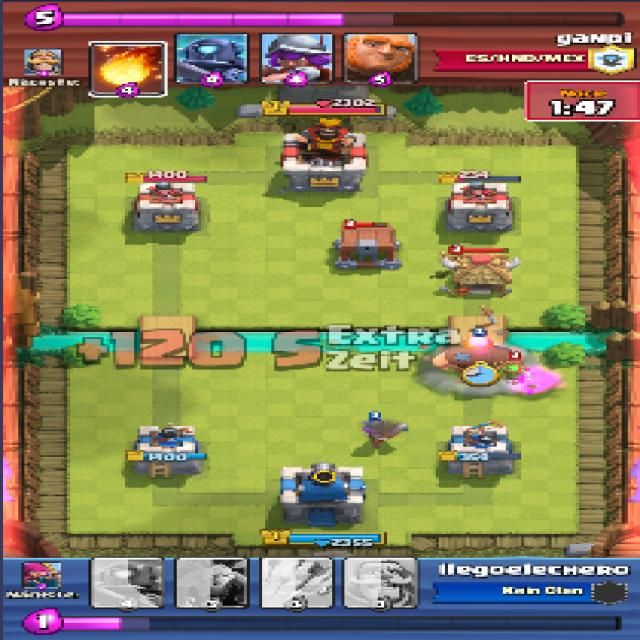Enemy-GoblinHut: (442, 252, 520, 296)
Enemy-SpearGoblin: (497, 365, 532, 384)
Player-Giant: (433, 337, 528, 377)
Player-GoblinCage: (331, 223, 404, 271)
Player-Musketeer: (362, 420, 410, 448)
